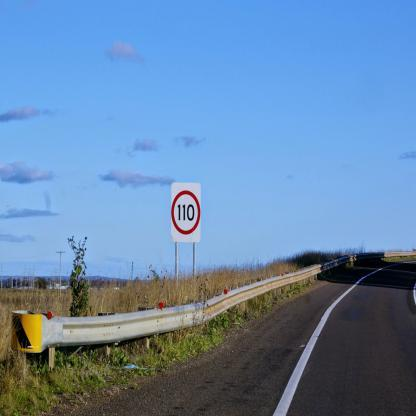Speed Limit 110: (172, 191, 199, 234)
